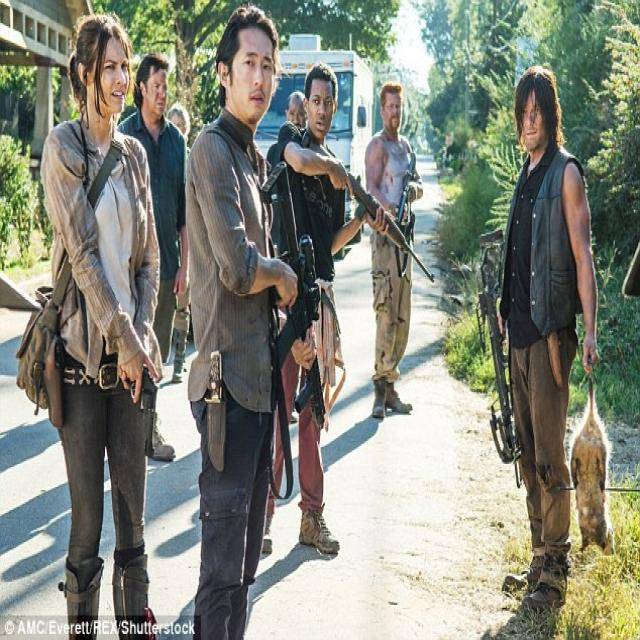body: (11, 7, 168, 638), (180, 6, 302, 640), (262, 59, 392, 558), (496, 63, 602, 615), (113, 52, 191, 466), (362, 77, 426, 420), (165, 99, 193, 383), (266, 90, 310, 184), (433, 138, 475, 185), (331, 68, 355, 140)
